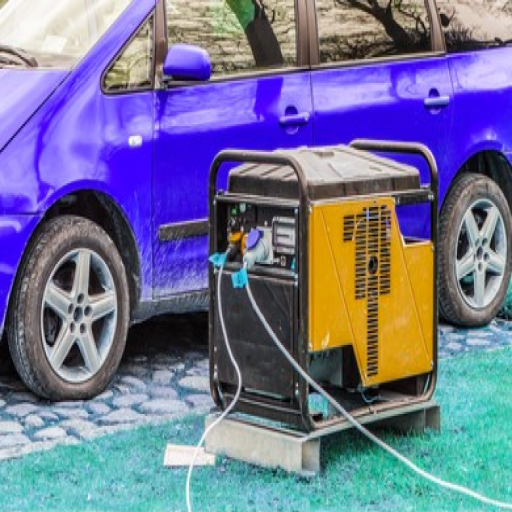portable_generator: (208, 139, 441, 431)
